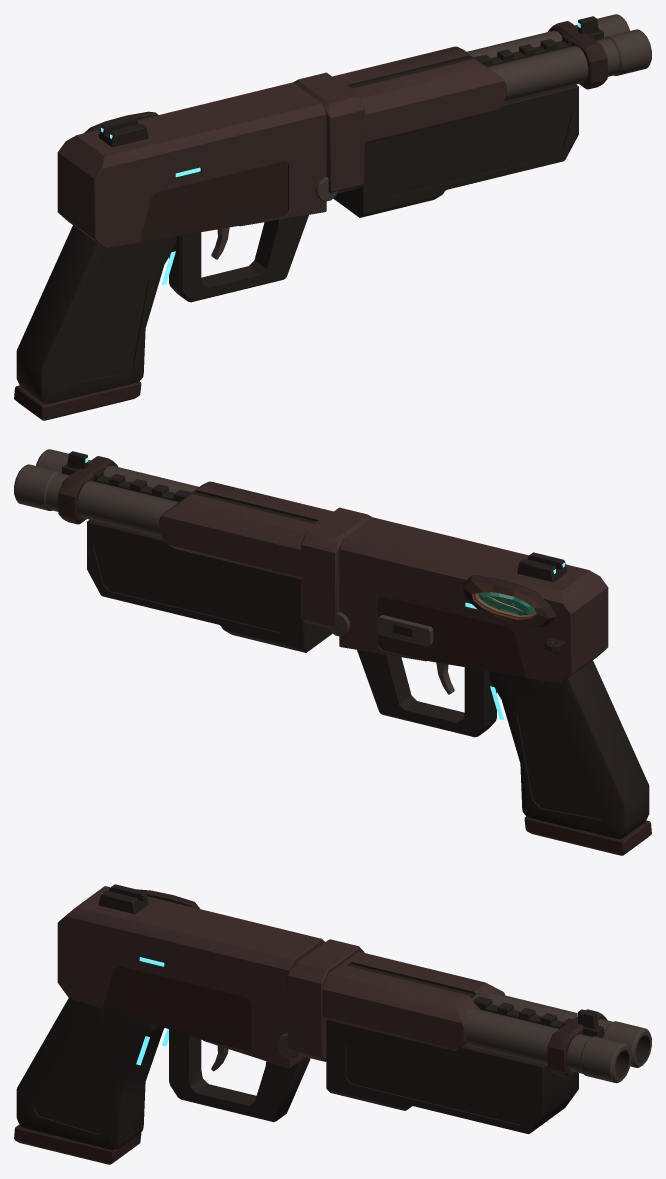
File: Shorty_Rootglass_v01.fbx
3 views of the same model, one above another, from view 1: azimuth 30°, elevation 25°; view 2: azimuth 150°, elevation 25°; view 3: azimuth 330°, elevation 25° (orthographic).
Parts seen in each view (by area): view 1: Shorty_Barrels, Shorty_Frame, Shorty_Grip; view 2: Shorty_Barrels, Shorty_Frame, Shorty_Grip, Rootglass_Left_CarvedShell, Shorty_BreechLatch, Rootglass_Left_FacetedMineral; view 3: Shorty_Barrels, Shorty_Frame, Shorty_Grip.
Part boxes in pixels (x1=…): Shorty_Barrels: x1=293, y1=14, x2=651, y2=217; Shorty_Frame: x1=57, y1=82, x2=338, y2=302; Shorty_Grip: x1=14, y1=225, x2=176, y2=420; Shorty_Barrels: x1=14, y1=449, x2=372, y2=652; Shorty_Frame: x1=327, y1=517, x2=608, y2=737; Shorty_Grip: x1=489, y1=660, x2=651, y2=855; Rootglass_Left_CarvedShell: x1=462, y1=574, x2=556, y2=627; Shorty_BreechLatch: x1=376, y1=615, x2=433, y2=646; Rootglass_Left_FacetedMineral: x1=478, y1=592, x2=535, y2=615; Shorty_Barrels: x1=287, y1=939, x2=651, y2=1134; Shorty_Frame: x1=57, y1=884, x2=324, y2=1122; Shorty_Grip: x1=14, y1=998, x2=164, y2=1164.
Bounding box in the file's own units: 168 × 70 × 23.34.
